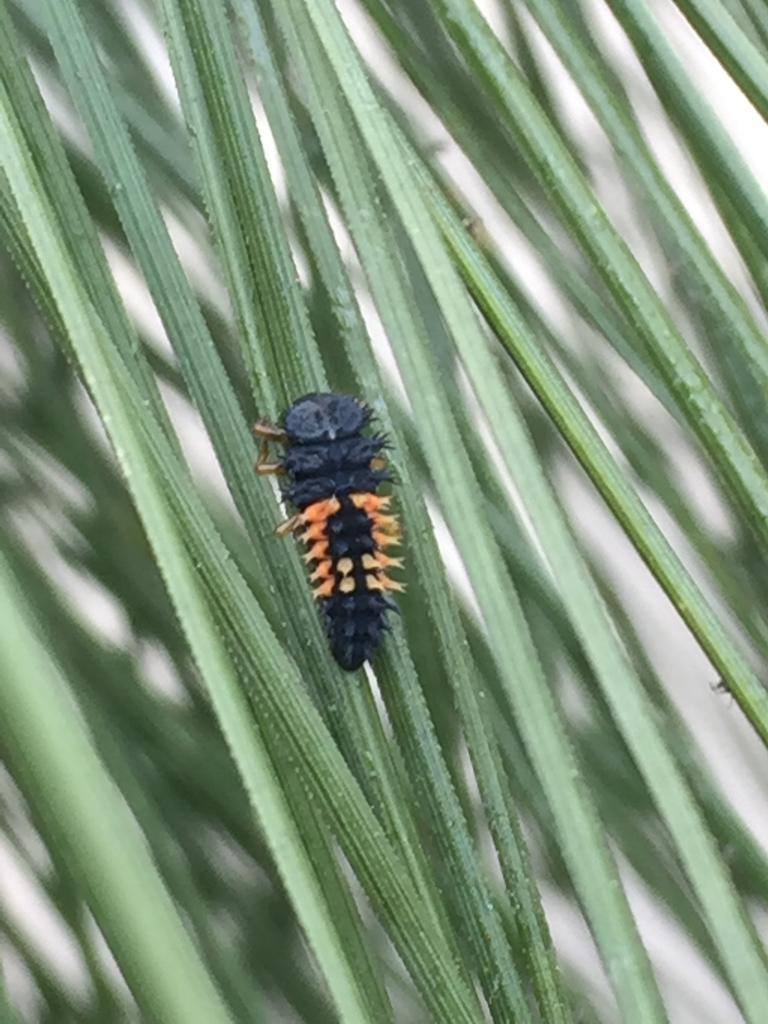ladybug: (251, 389, 409, 676)
